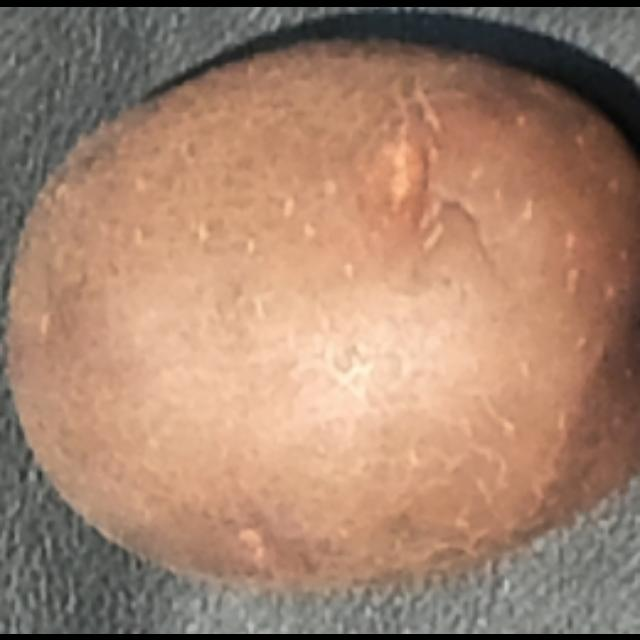Diseased-fungal potato: (5, 6, 640, 602)
